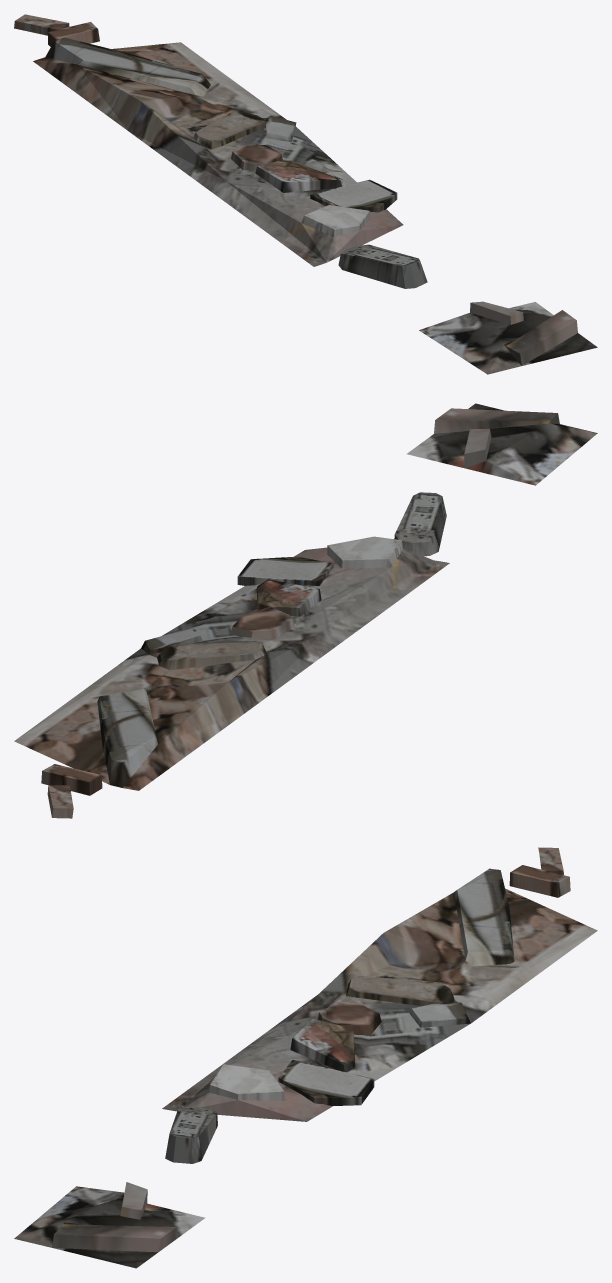
Rendered from bz_trash_01.fbx.
3 renders of one model, top to bottom at view 1: azimuth 30°, elevation 25°; view 2: azimuth 150°, elevation 25°; view 3: azimuth 330°, elevation 25°, orthographic. The views are drawn at different scales.
Visible parts, largest first — view 1: bz_room_junk_01; view 2: bz_room_junk_01; view 3: bz_room_junk_01.
Part boxes in pixels (x1,y1,x2,y2): bz_room_junk_01: (14,14,597,374); bz_room_junk_01: (14,403,597,818); bz_room_junk_01: (14,847,597,1268).
Bounding box in the file's own units: 1.24 × 0.2425 × 7.82.
